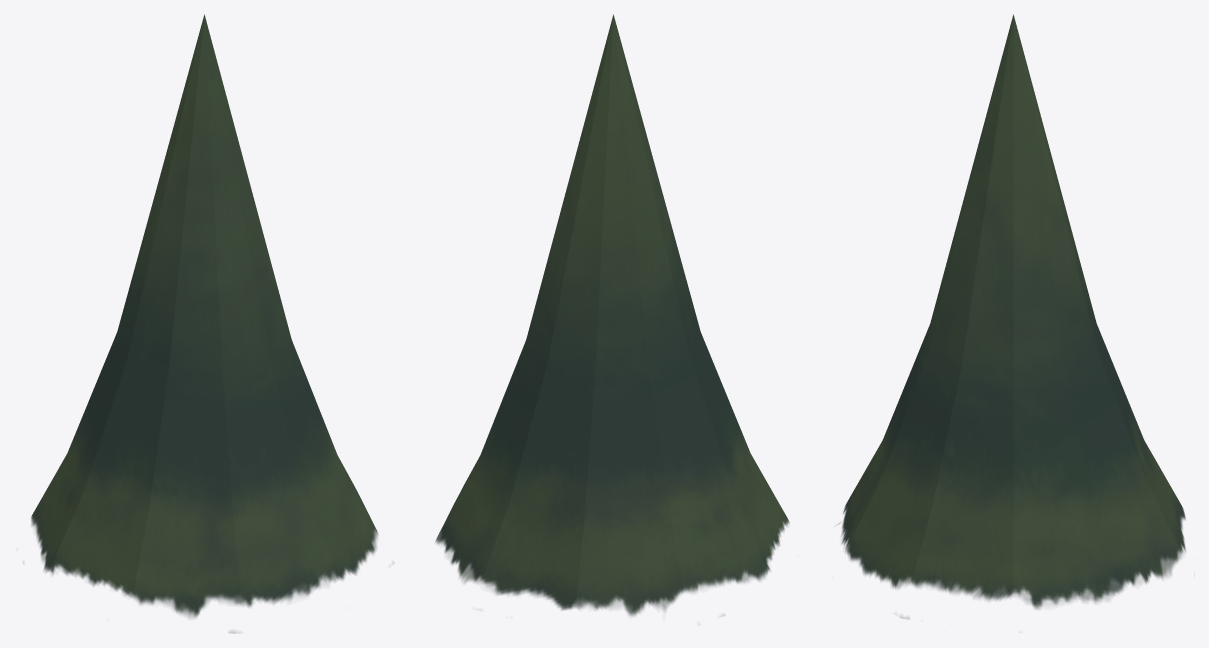
File: polysurface146_lambert6_0_lev2.glb
3 renders of one model, left to right at view 1: azimuth 30°, elevation 25°; view 2: azimuth 150°, elevation 25°; view 3: azimuth 270°, elevation 25°, orthographic.
Parts seen in each view (by area): view 1: polysurface146_lambert6_0_lev2; view 2: polysurface146_lambert6_0_lev2; view 3: polysurface146_lambert6_0_lev2.
Boxes of the visible parts, <box> form: polysurface146_lambert6_0_lev2: <box>23,14,394,633</box>; polysurface146_lambert6_0_lev2: <box>435,14,789,616</box>; polysurface146_lambert6_0_lev2: <box>838,14,1185,619</box>.
Size of the model in its own units: 3.55 by 5.54 by 3.38.
1 material, 1 textured.
